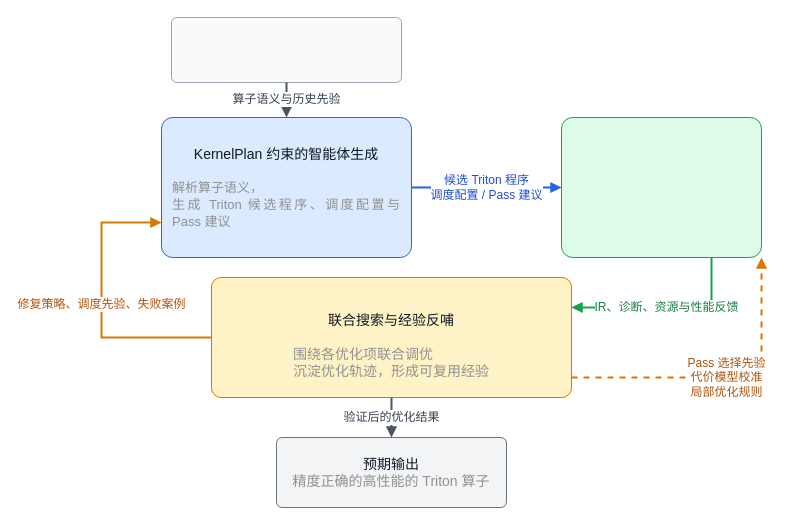
This 787x525 diagram has some shape labels left out. The centre of each missing label's shape, as x and y in pixels:
"NPU 后端反馈映射机制 导出后端 IR、Pass 诊断、资源统计和性能模型结果" belongs at [661,187].
"PyTorch 参考实现 / 算子设计文档 手写高性能算子案例知识库" belongs at [286,49].
